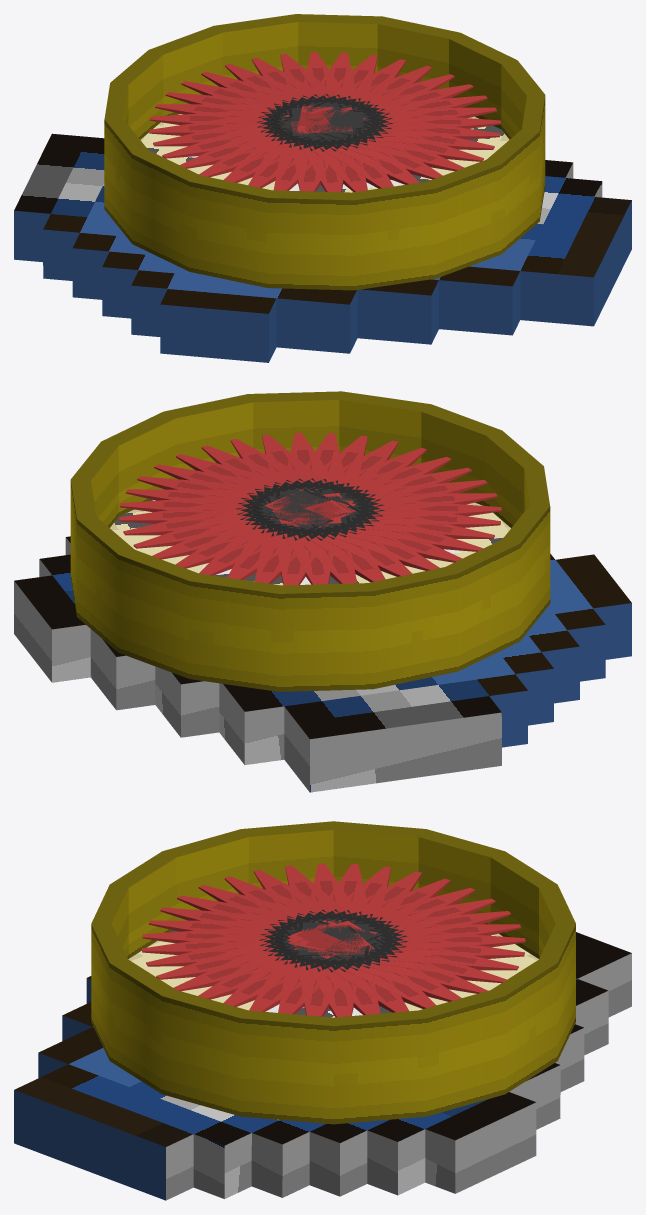
Rendered from atlas.obj.
The picture shows the model from 3 angles, top to bottom: view 1: azimuth 30°, elevation 25°; view 2: azimuth 150°, elevation 25°; view 3: azimuth 270°, elevation 25°; orthographic projection. The views are drawn at different scales.
Visible parts, largest first — view 1: compass, book, 1, 34, 36, 20, 26, 3, 14, 25, 16, 31 (+26 smaller); view 2: compass, book, 25, 32, 35, 34, 9, 7, 16, 29, 33, 1 (+26 smaller); view 3: compass, book, 19, 26, 12, 5, 21, 23, 9, 10, 7, 3 (+26 smaller).
Boxes of the visible parts, <box> form: compass: <box>104,14,545,290</box>; book: <box>14,133,631,362</box>; 1: <box>155,104,392,135</box>; 34: <box>153,104,378,146</box>; 36: <box>149,106,389,131</box>; 20: <box>257,105,483,161</box>; 26: <box>288,97,352,192</box>; 3: <box>181,81,391,138</box>; 14: <box>282,84,473,147</box>; 25: <box>282,100,367,191</box>; 16: <box>271,107,496,140</box>; 31: <box>199,96,350,177</box>; compass: <box>70,391,550,691</box>; book: <box>14,536,631,792</box>; 25: <box>266,457,451,538</box>; 32: <box>236,496,482,551</box>; 35: <box>247,489,412,576</box>; 34: <box>241,489,439,570</box>; 9: <box>133,486,359,548</box>; 7: <box>175,480,338,568</box>; 16: <box>176,454,379,527</box>; 29: <box>245,498,501,525</box>; 33: <box>238,490,461,562</box>; 1: <box>264,485,356,583</box>; compass: <box>91,821,575,1124</box>; book: <box>14,932,631,1200</box>; 19: <box>198,911,379,999</box>; 26: <box>160,907,408,956</box>; 12: <box>278,920,408,1012</box>; 5: <box>268,929,525,956</box>; 21: <box>156,917,382,979</box>; 23: <box>141,922,398,954</box>; 9: <box>260,920,487,993</box>; 10: <box>264,920,461,1001</box>; 7: <box>260,940,518,970</box>; 3: <box>284,911,510,964</box>.
Bounding box in the file's own units: 0.9094 × 0.2614 × 0.9427.
